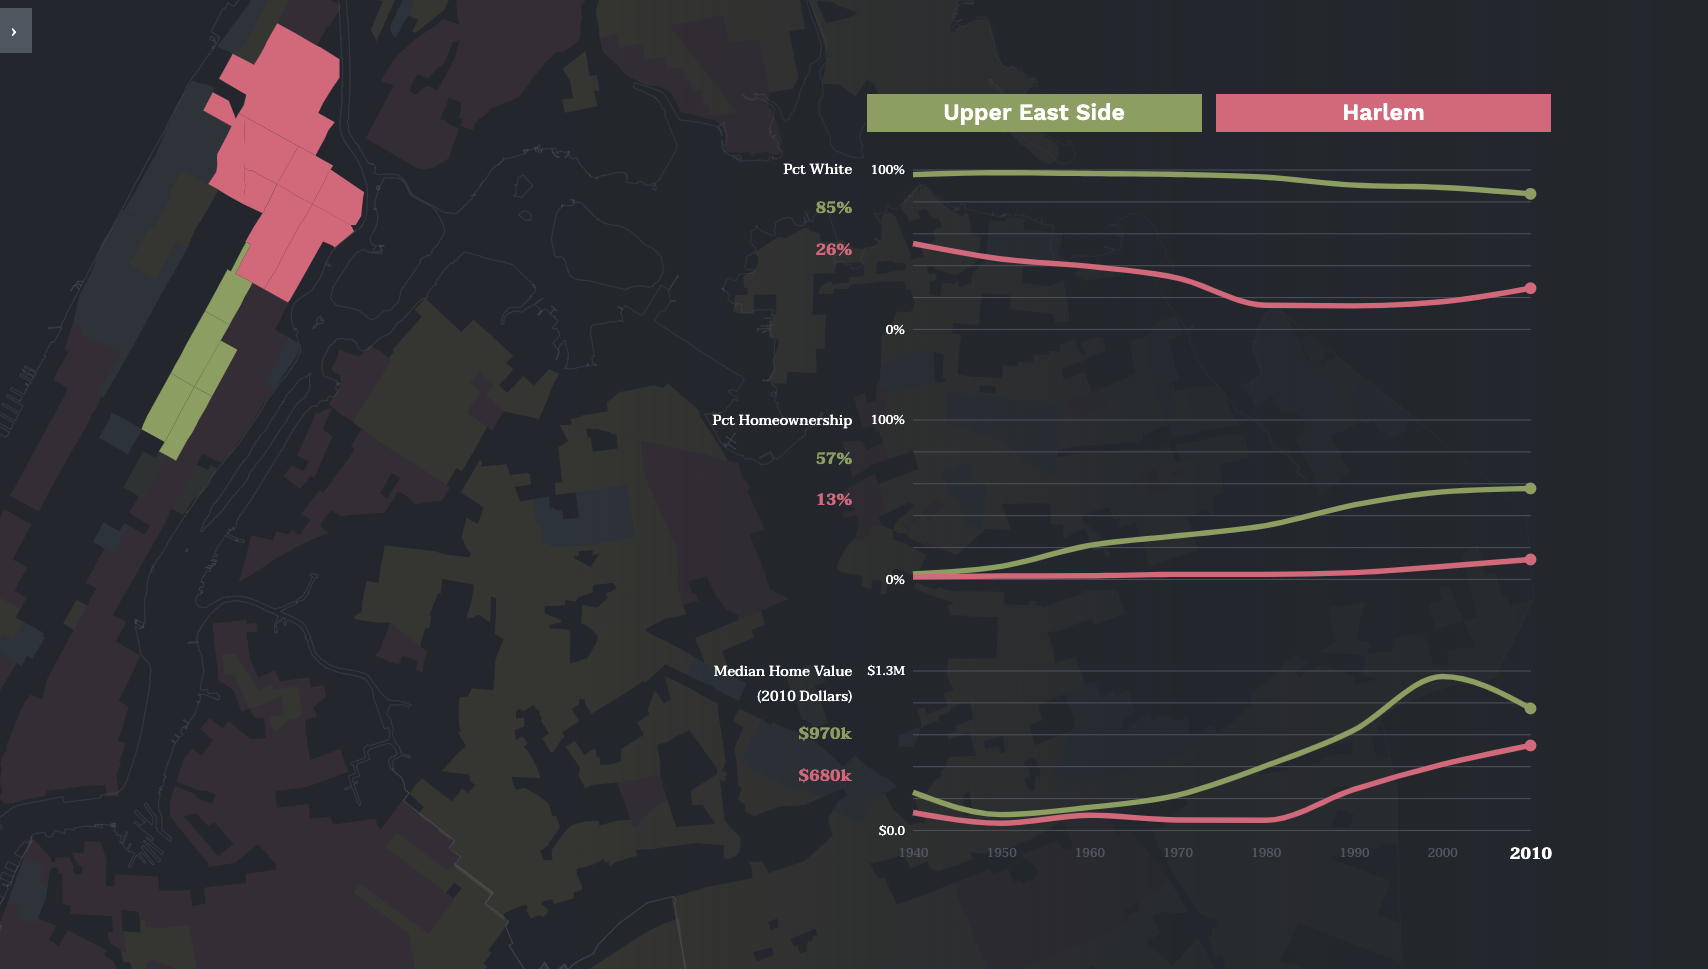

This screenshot's page, from the dashboard's own definition file:
{"tool":"tableau","page":{"name":"Rankings Over Time","canvas":[1000,800],"ordinal":0},"visuals":[{"type":"worksheet","title":"Rankings over Time Home Value","mark":"Line","rows":["Calculation_660199603559563281"],"cols":["year"],"box":[8,8,824,261.3]},{"type":"filter","title":"Rankings over Time Home Value","param":"[federated.0xaqq8s1ksnlo6147u4aj1us61ti].[none:borough:nk]","box":[832,8,160,165]},{"type":"filter","title":"Rankings over Time Home Value","param":"[federated.0xaqq8s1ksnlo6147u4aj1us61ti].[none:Calculation_660199602600062980:nk","box":[832,173,160,165]},{"type":"worksheet","title":"Rankings over Time Homeownership","mark":"Line","cols":["year"],"box":[8,269.3,824,261.3]},{"type":"worksheet","title":"Borough ID Highlight","mark":"Automatic","rows":["Calculation_660199602581409792"],"box":[832,338,160,454]},{"type":"worksheet","title":"Rankings over Time Pct White","mark":"Line","cols":["year"],"box":[8,530.7,824,261.3]}]}

Visuals, with their boxes on the page's 1000x800 design canvas (x1, y1, x2, y2). These are canvas units, not pixel positions in the 1708x969 screenshot, which may show the page scaled, cropped or inside an application window:
"Rankings over Time Home Value" worksheet (Line marks): Rect(8, 8, 832, 269)
"Rankings over Time Home Value" filter: Rect(832, 8, 992, 173)
"Rankings over Time Home Value" filter: Rect(832, 173, 992, 338)
"Rankings over Time Homeownership" worksheet (Line marks): Rect(8, 269, 832, 531)
"Borough ID Highlight" worksheet: Rect(832, 338, 992, 792)
"Rankings over Time Pct White" worksheet (Line marks): Rect(8, 531, 832, 792)
